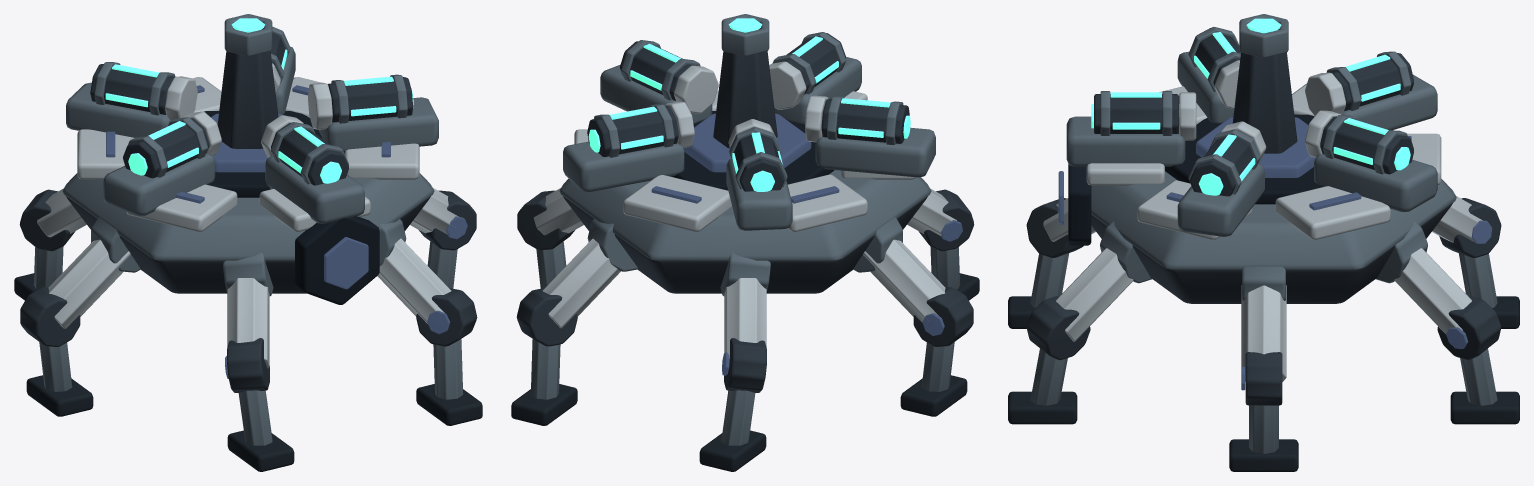
Rendered from t5_regenerator.fbx.
The picture shows the model from 3 angles, left to right: view 1: azimuth 30°, elevation 25°; view 2: azimuth 150°, elevation 25°; view 3: azimuth 270°, elevation 25°; orthographic projection. The views are drawn at different scales.
Visible parts, largest first — view 1: Body_Geometry, Leg_01_Geometry, Knee.005_Geometry, Leg_00_Geometry, Leg_05_Geometry, Knee_Geometry, Knee.001_Geometry, Knee.004_Geometry, Knee.002_Geometry, Foot_Geometry, Foot.005_Geometry, Foot.001_Geometry (+2 smaller); view 2: Body_Geometry, Leg_03_Geometry, Leg_01_Geometry, Leg_02_Geometry, Knee.003_Geometry, Knee.001_Geometry, Knee.002_Geometry, Knee_Geometry, Knee.004_Geometry, Foot.002_Geometry, Foot.003_Geometry, Foot.001_Geometry (+2 smaller); view 3: Body_Geometry, Leg_05_Geometry, Leg_03_Geometry, Leg_04_Geometry, Knee.003_Geometry, Knee.005_Geometry, Knee.004_Geometry, Knee.002_Geometry, Knee_Geometry, Foot.003_Geometry, Foot.005_Geometry, Foot.004_Geometry (+4 smaller).
Boxes of the visible parts, <box> form: Body_Geometry: <box>62,14,438,304</box>; Leg_01_Geometry: <box>48,217,140,328</box>; Knee.005_Geometry: <box>416,288,477,399</box>; Leg_00_Geometry: <box>223,253,273,368</box>; Leg_05_Geometry: <box>377,219,451,323</box>; Knee_Geometry: <box>225,338,272,445</box>; Knee.001_Geometry: <box>20,287,80,391</box>; Knee.004_Geometry: <box>419,190,476,288</box>; Knee.002_Geometry: <box>19,189,75,289</box>; Foot_Geometry: <box>227,430,294,471</box>; Foot.005_Geometry: <box>416,384,482,425</box>; Foot.001_Geometry: <box>26,375,93,416</box>; Body_Geometry: <box>559,14,935,293</box>; Leg_03_Geometry: <box>542,219,638,328</box>; Leg_01_Geometry: <box>853,217,945,322</box>; Leg_02_Geometry: <box>720,252,770,358</box>; Knee.003_Geometry: <box>516,288,577,399</box>; Knee.001_Geometry: <box>913,287,973,391</box>; Knee.002_Geometry: <box>721,338,766,445</box>; Knee_Geometry: <box>918,189,974,289</box>; Knee.004_Geometry: <box>517,190,574,288</box>; Foot.002_Geometry: <box>699,430,766,471</box>; Foot.003_Geometry: <box>511,384,577,425</box>; Foot.001_Geometry: <box>900,375,967,416</box>; Body_Geometry: <box>1058,14,1456,303</box>; Leg_05_Geometry: <box>1056,221,1152,341</box>; Leg_03_Geometry: <box>1375,221,1471,334</box>; Leg_04_Geometry: <box>1241,266,1286,381</box>; Knee.003_Geometry: <box>1437,296,1501,405</box>; Knee.005_Geometry: <box>1026,296,1090,405</box>; Knee.004_Geometry: <box>1241,352,1282,453</box>; Knee.002_Geometry: <box>1439,198,1501,307</box>; Knee_Geometry: <box>1026,198,1083,307</box>; Foot.003_Geometry: <box>1450,391,1519,424</box>; Foot.005_Geometry: <box>1008,391,1077,424</box>; Foot.004_Geometry: <box>1229,439,1298,471</box>.
Bounding box in the file's own units: 2.98 × 2.14 × 2.89.
